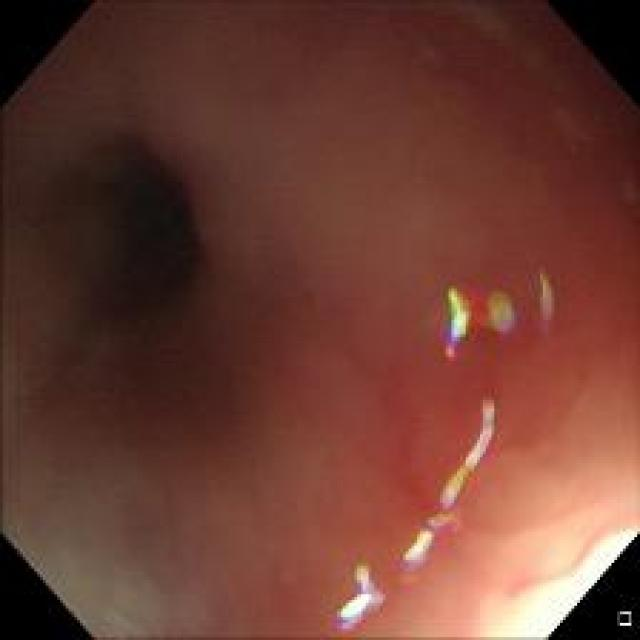color misalignment: (399, 394, 498, 578), (439, 266, 578, 355), (325, 559, 386, 622)
contrast: (18, 90, 222, 409)
saturation: (474, 510, 639, 636)
specularity: (340, 592, 368, 614)
